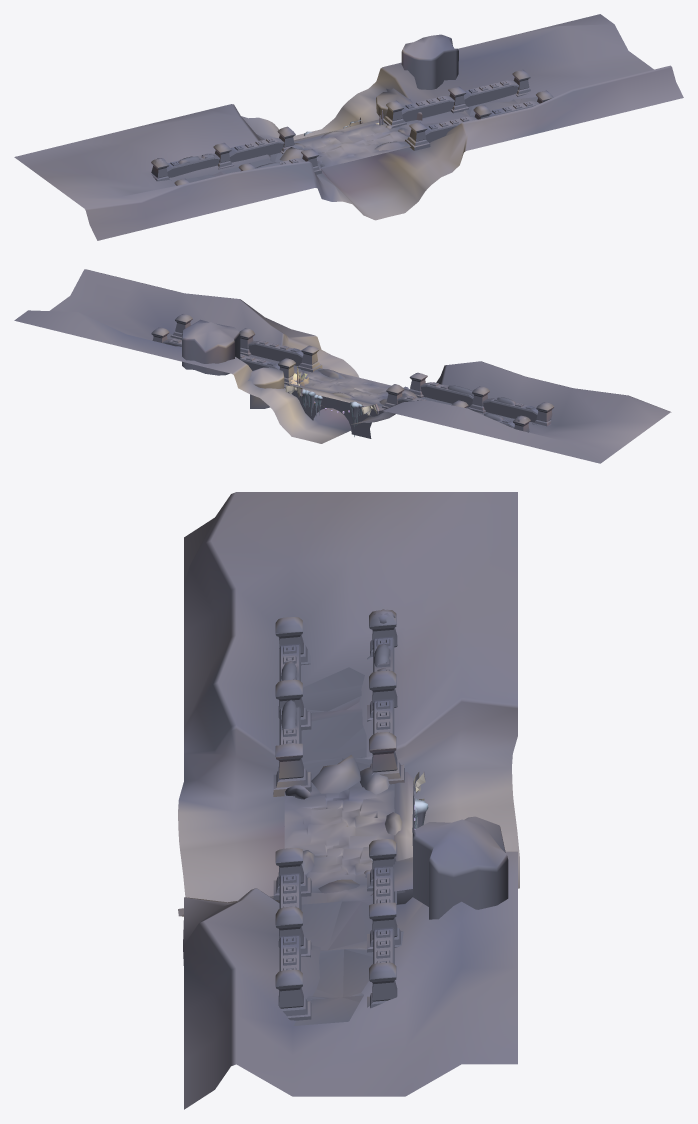
The model's file is Arctic_Luge_Straight_UnderObstacle_B.glb.
3 views of the same model, one above another, from view 1: azimuth 30°, elevation 25°; view 2: azimuth 150°, elevation 25°; view 3: azimuth 270°, elevation 25° (orthographic). The views are drawn at different scales.
Visible parts, largest first — view 1: Arctic_Luge_Straight_UnderObstacle_B; view 2: Arctic_Luge_Straight_UnderObstacle_B; view 3: Arctic_Luge_Straight_UnderObstacle_B.
Boxes of the visible parts, x1,y1,x2,y2 form: Arctic_Luge_Straight_UnderObstacle_B: (14,14,683,240); Arctic_Luge_Straight_UnderObstacle_B: (14,269,671,463); Arctic_Luge_Straight_UnderObstacle_B: (178,492,519,1109).
Size of what is drawn, in the model's own units: 25.98 by 4.39 by 6.56.
